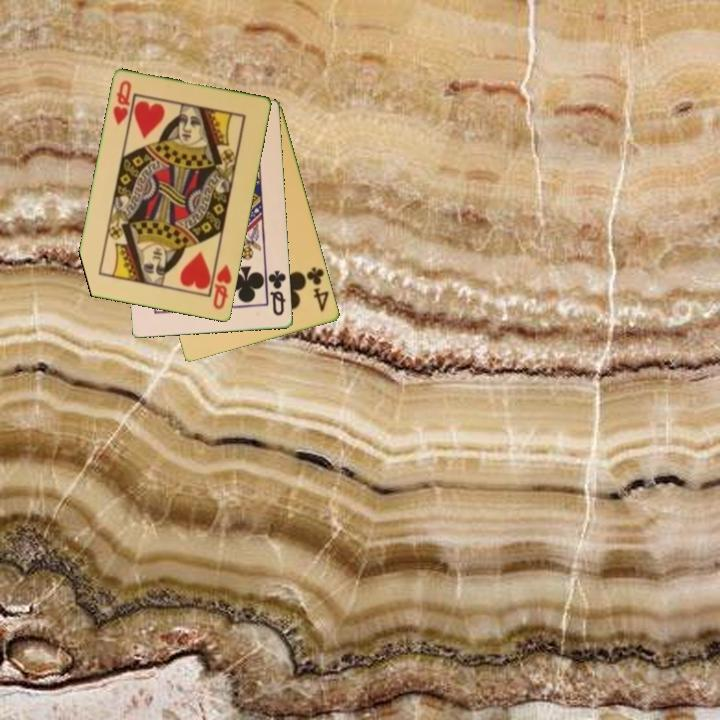4c: (303, 263, 332, 315)
Qc: (265, 267, 289, 319)
Qh: (210, 262, 235, 312), (110, 77, 134, 129)
